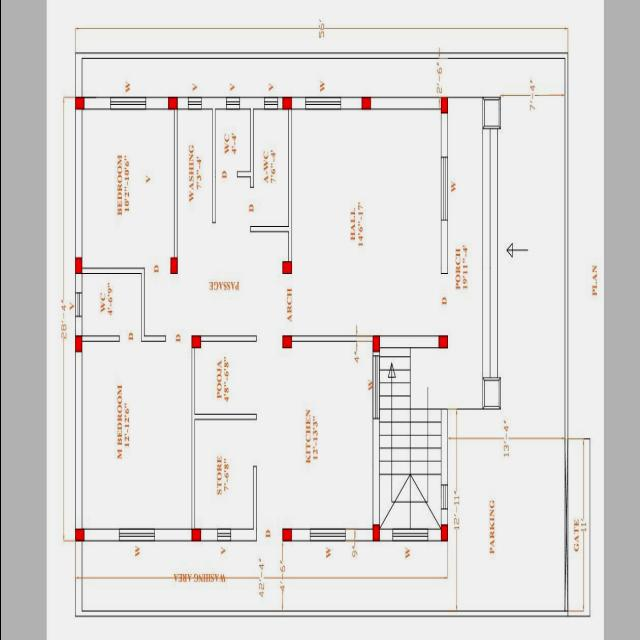column: (72, 524, 86, 546), (280, 94, 294, 115), (188, 332, 202, 352), (279, 332, 293, 352), (358, 95, 372, 115), (438, 519, 448, 547), (188, 526, 202, 546), (72, 93, 85, 114), (72, 254, 84, 276), (370, 332, 380, 358), (370, 520, 380, 546), (438, 94, 448, 118), (436, 333, 448, 353), (280, 525, 292, 545), (279, 259, 292, 277), (72, 334, 82, 356), (168, 255, 178, 277), (165, 95, 177, 112)
